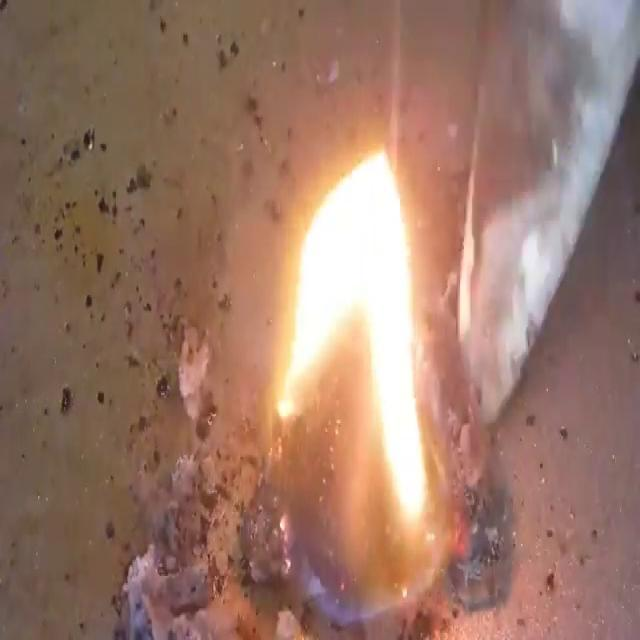Fire: (4, 4, 637, 636), (266, 141, 462, 615)
